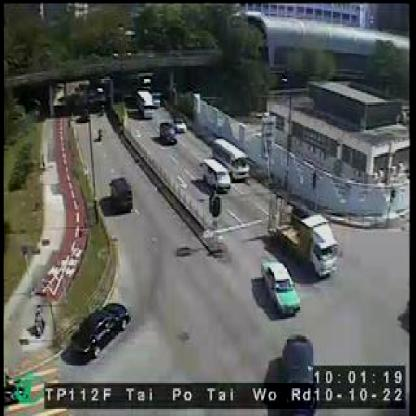Car: (72, 299, 130, 361), (257, 260, 301, 313), (270, 335, 314, 384), (203, 158, 233, 192), (110, 174, 134, 210), (158, 124, 176, 145), (175, 118, 188, 131)
Truck: (270, 188, 341, 274), (214, 139, 250, 182), (138, 88, 157, 119)
